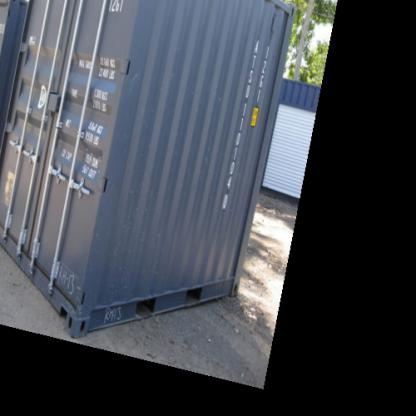Damage: (52, 261, 82, 309), (118, 63, 142, 96), (100, 302, 128, 326)
